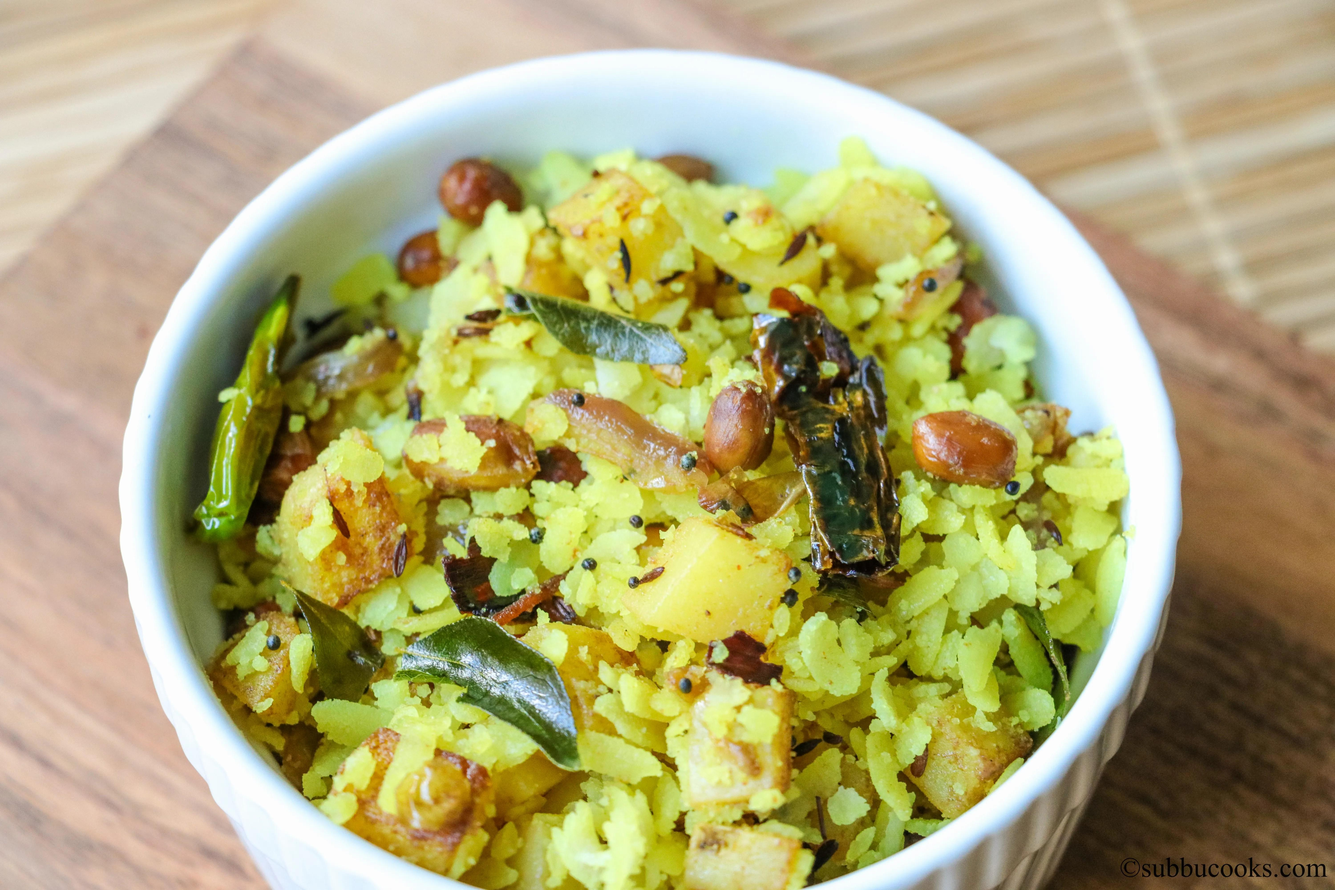Poha: (170, 129, 1130, 885)
